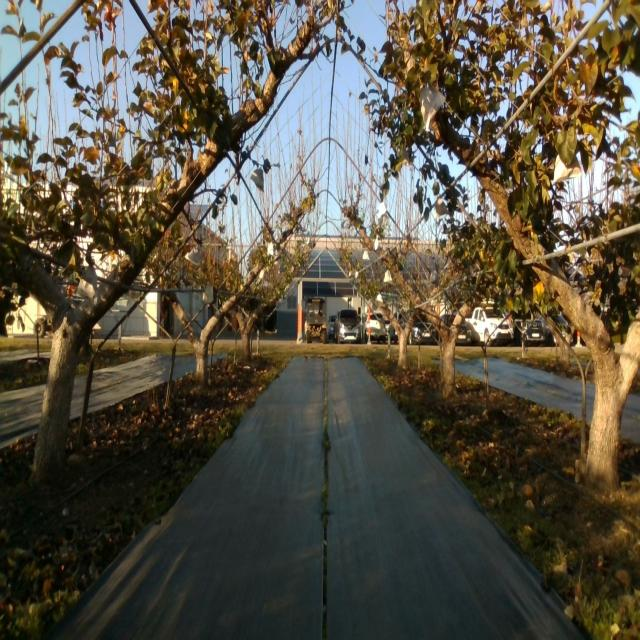pearbags: (419, 86, 447, 131), (551, 153, 581, 185), (76, 262, 98, 304), (250, 166, 264, 194), (185, 244, 202, 266), (434, 198, 447, 218)
